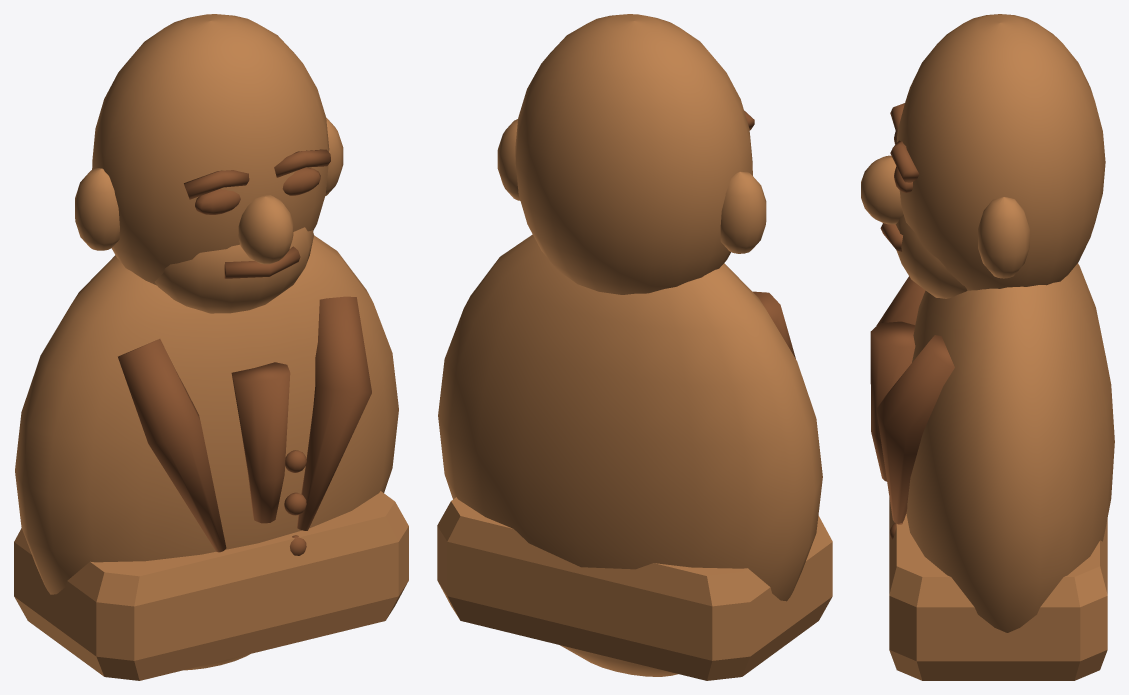
The model's file is coach-8.glb.
3 renders of one model, left to right at view 1: azimuth 30°, elevation 25°; view 2: azimuth 150°, elevation 25°; view 3: azimuth 270°, elevation 25°, orthographic.
Parts seen in each view (by area): view 1: coach-8 · Cast bronze, coach-8 · Cast bronze.001, coach-8 · Bronze patina; view 2: coach-8 · Cast bronze, coach-8 · Cast bronze.001, coach-8 · Bronze patina; view 3: coach-8 · Cast bronze, coach-8 · Cast bronze.001, coach-8 · Bronze patina.
Boxes of the visible parts, bbox=[...] form: coach-8 · Cast bronze: bbox=[15, 14, 398, 670]; coach-8 · Cast bronze.001: bbox=[14, 491, 408, 680]; coach-8 · Bronze patina: bbox=[118, 149, 371, 555]; coach-8 · Cast bronze: bbox=[438, 14, 822, 676]; coach-8 · Cast bronze.001: bbox=[437, 497, 832, 680]; coach-8 · Bronze patina: bbox=[744, 110, 795, 358]; coach-8 · Cast bronze: bbox=[861, 14, 1114, 632]; coach-8 · Cast bronze.001: bbox=[889, 498, 1107, 680]; coach-8 · Bronze patina: bbox=[870, 103, 954, 539].
Bounding box in the file's own units: 1.18 × 1.97 × 0.7085.
